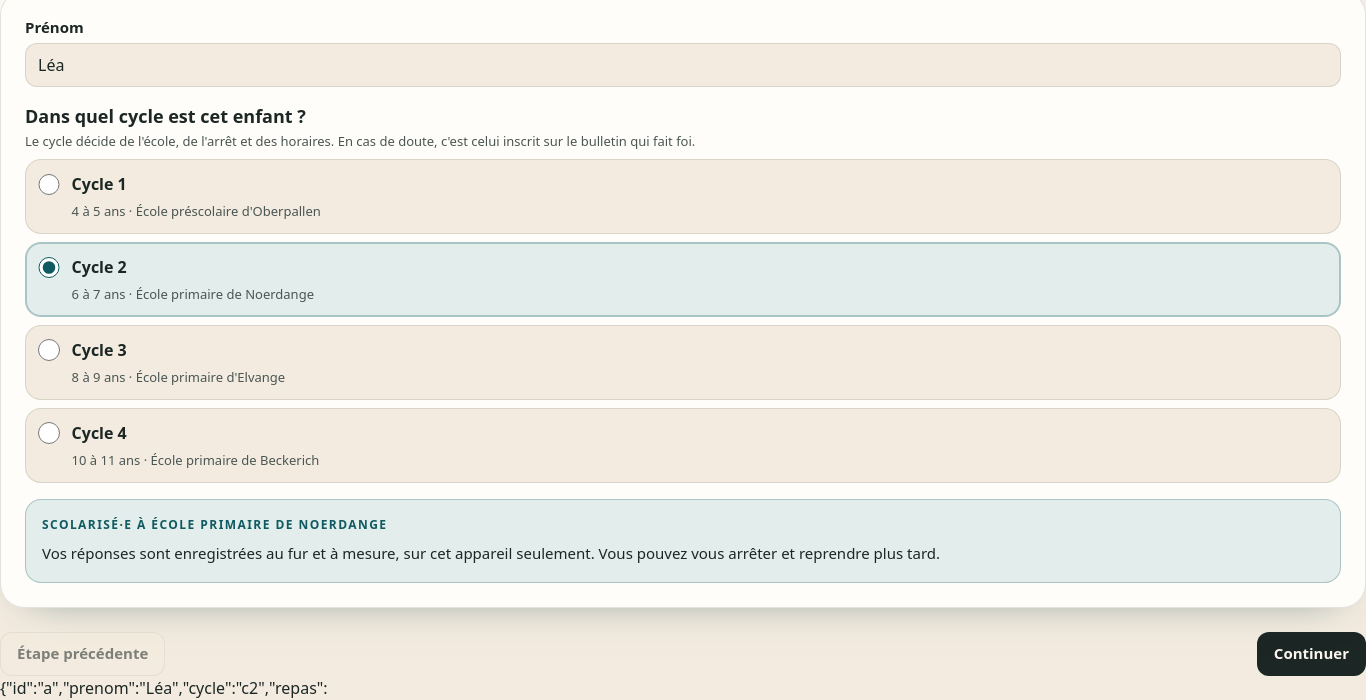
Scenario: une question par moment de la journée › ne pose pas la question du déjeuner les jours où la classe s’arrête à midi
The image size is (1366, 700).
(page scrolled)
Click the button "Continuer" at x=1311, y=654, box [1257, 632, 1365, 676]
(page scrolled)
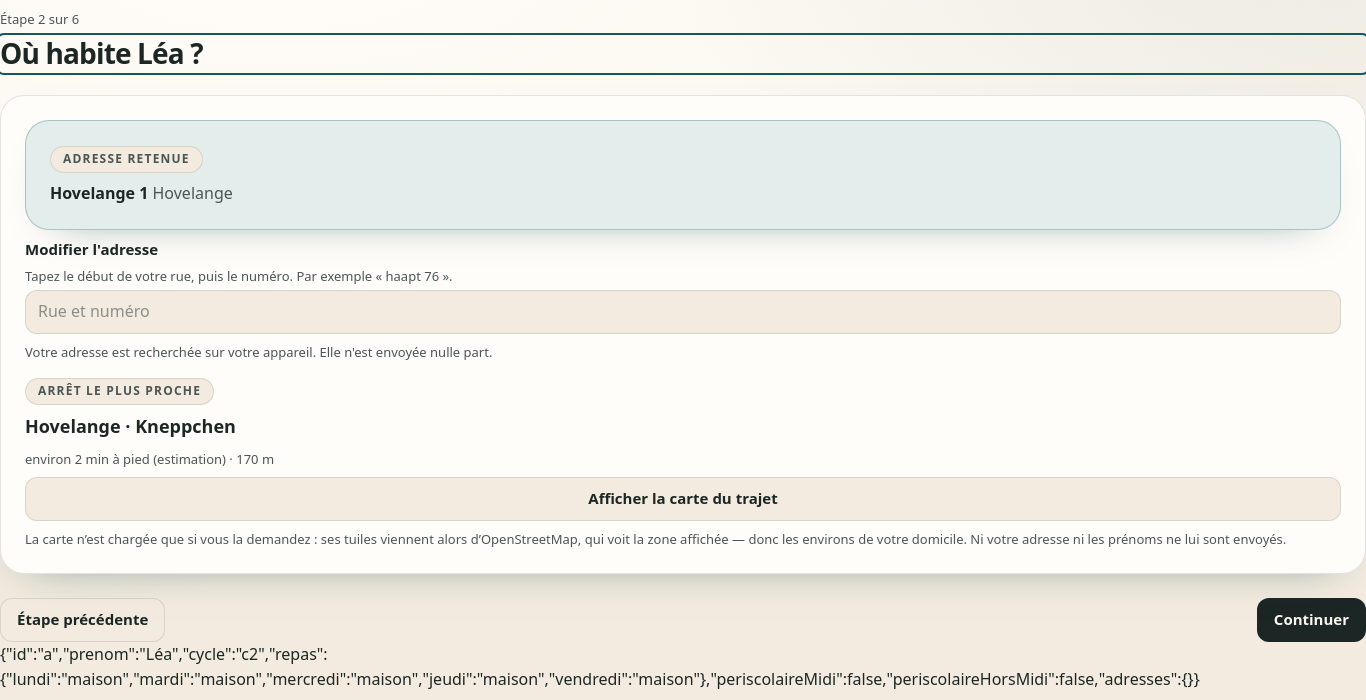
Click the button "Continuer" at x=1311, y=620, box [1257, 598, 1365, 642]
(page scrolled)
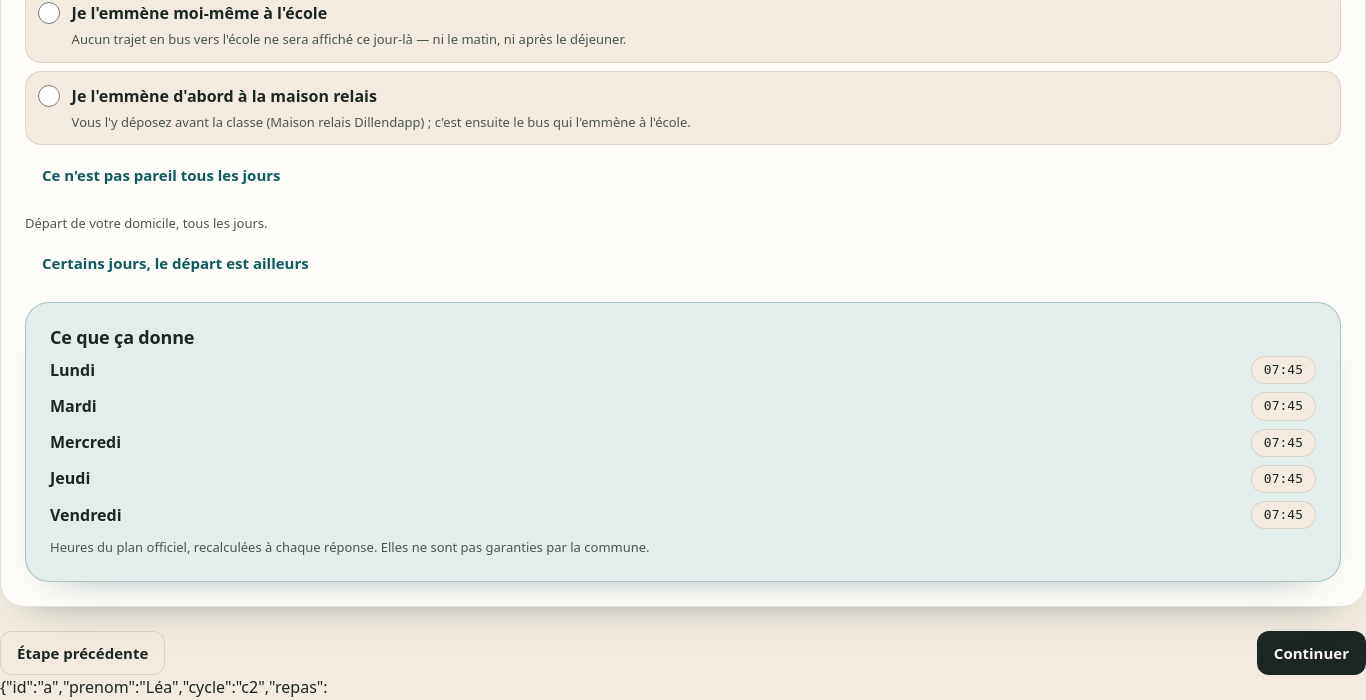
Click the button "Continuer" at x=1311, y=653, box [1257, 631, 1365, 675]
(page scrolled)
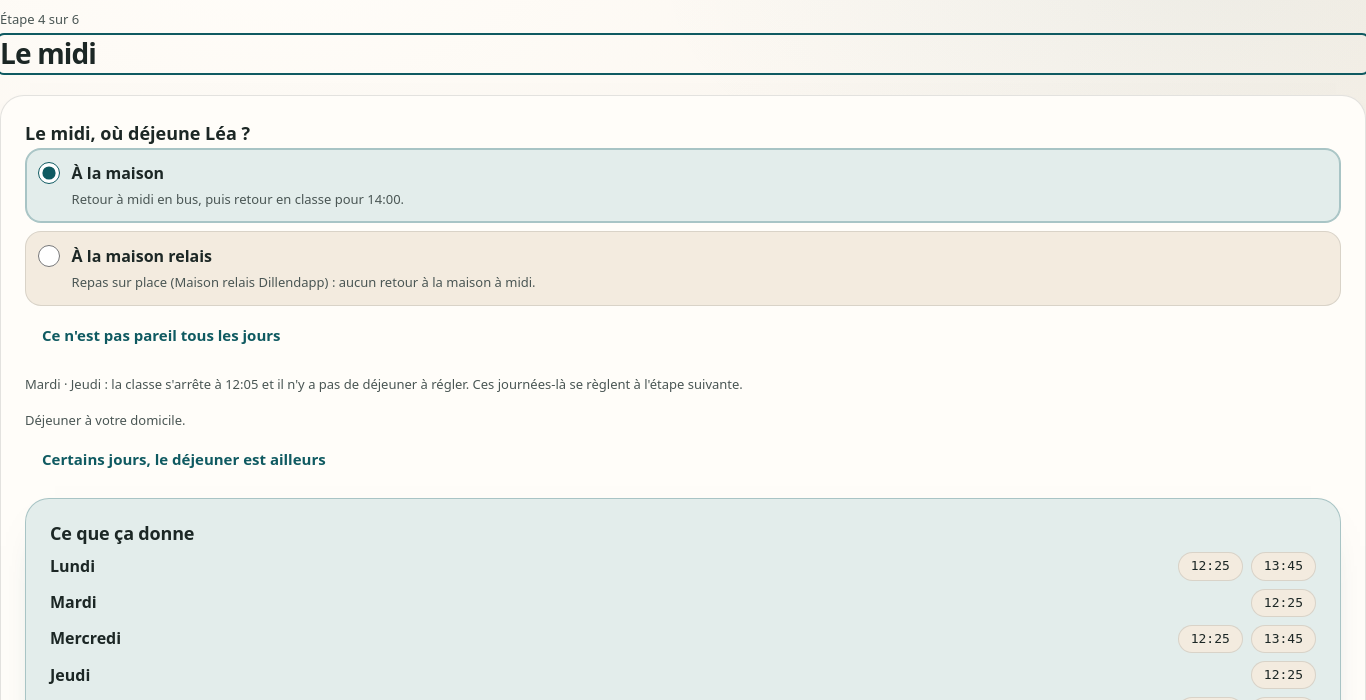
Click the button "Ce n'est pas pareil tous les jours" at x=161, y=336, box [25, 314, 298, 358]
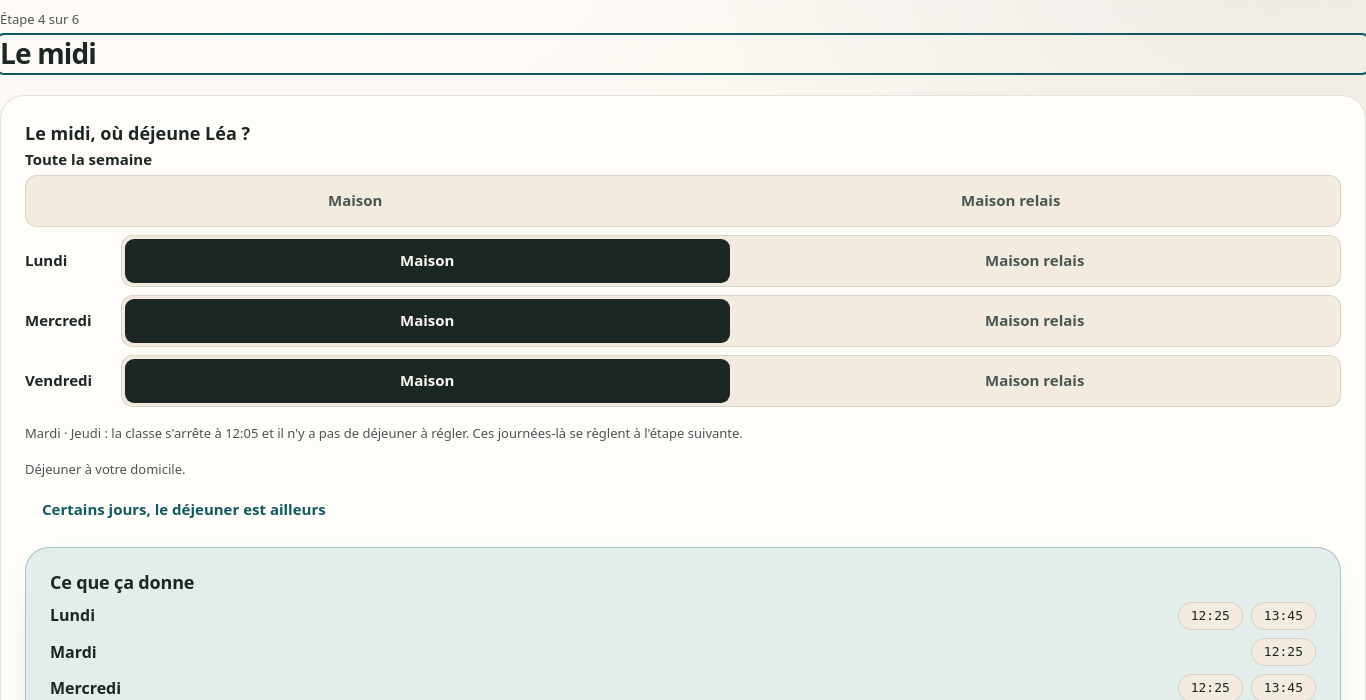
Check: the element named "Lundi" is shown, box [121, 235, 1341, 287]
